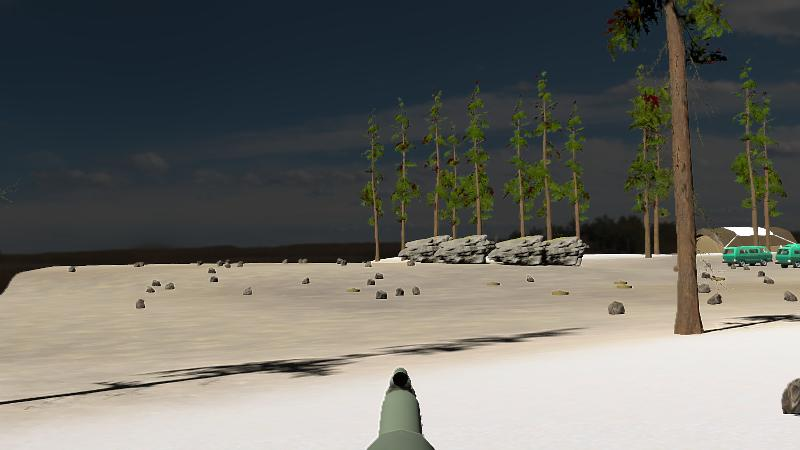car: (722, 246, 771, 268), (776, 243, 800, 269)
